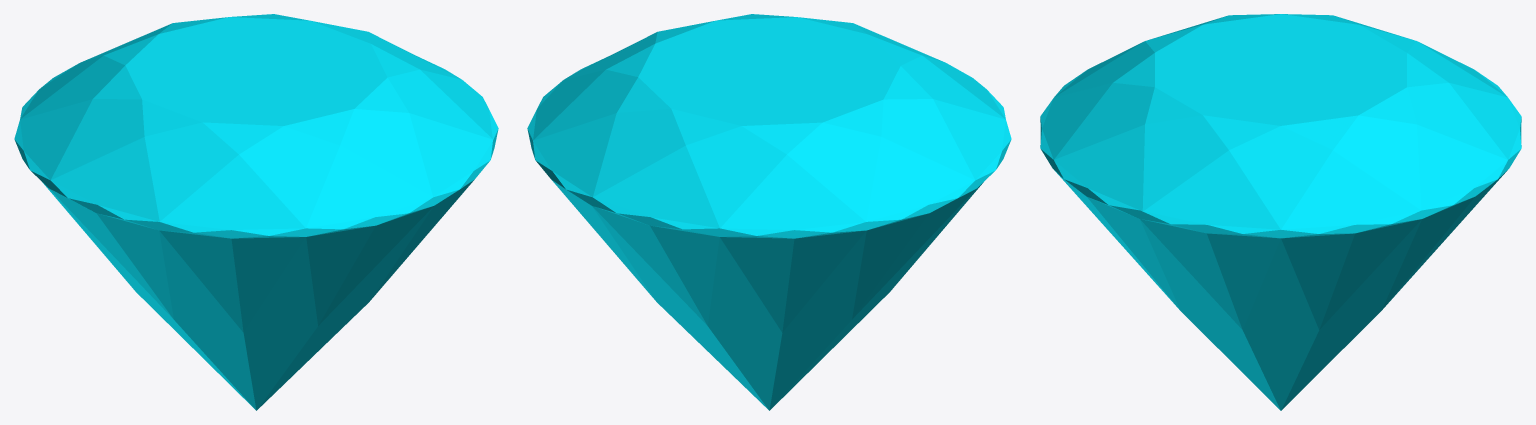
File: CyanChaosEmerald.obj
3 views of the same model, side by side, from view 1: azimuth 30°, elevation 25°; view 2: azimuth 150°, elevation 25°; view 3: azimuth 270°, elevation 25° (orthographic).
Parts seen in each view (by area): view 1: emerald_7; view 2: emerald_7; view 3: emerald_7.
Boxes of the visible parts, x1,y1,x2,y2 form: emerald_7: (14, 14, 498, 410); emerald_7: (527, 14, 1011, 410); emerald_7: (1040, 14, 1521, 410).
Size of the model in its own units: 0.0262 by 0.0205 by 0.0262.
